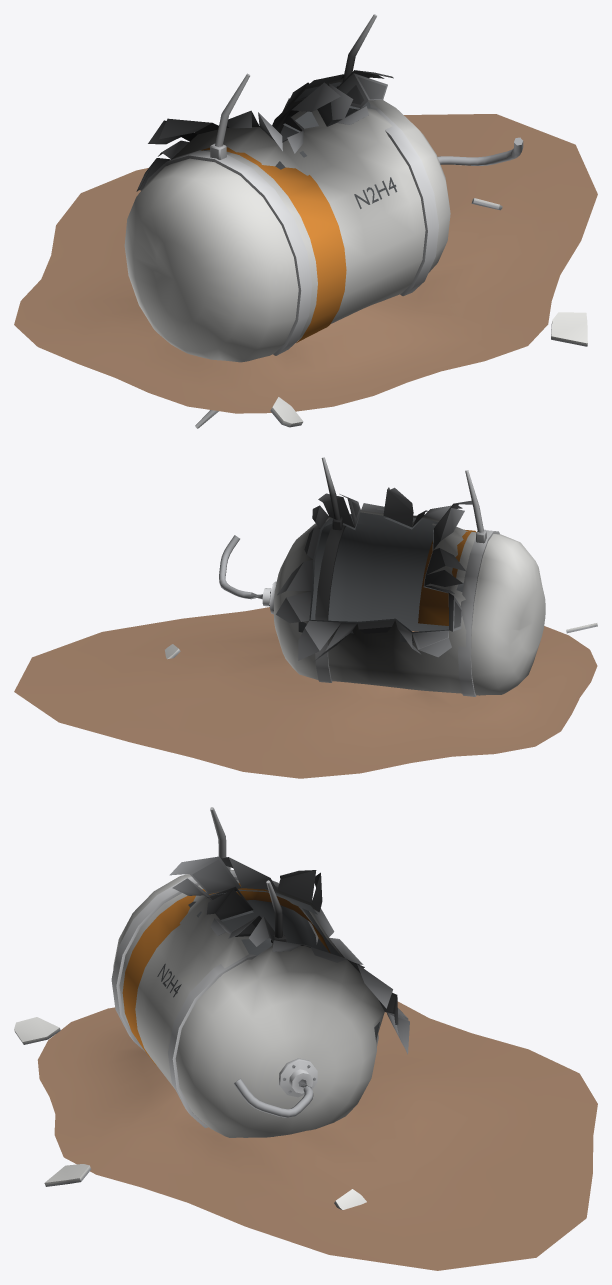
The model's file is debris_c.glb.
The picture shows the model from 3 angles, top to bottom: view 1: azimuth 30°, elevation 25°; view 2: azimuth 150°, elevation 25°; view 3: azimuth 270°, elevation 25°; orthographic projection. The views are drawn at different scales.
Visible parts, largest first — view 1: debris_c_mesh; view 2: debris_c_mesh; view 3: debris_c_mesh.
Part boxes in pixels (x1,y1,x2,y2): debris_c_mesh: (14,14,597,428); debris_c_mesh: (14,457,597,778); debris_c_mesh: (14,807,597,1270).
Size of the model in its own units: 2.98 by 1.62 by 2.56.
